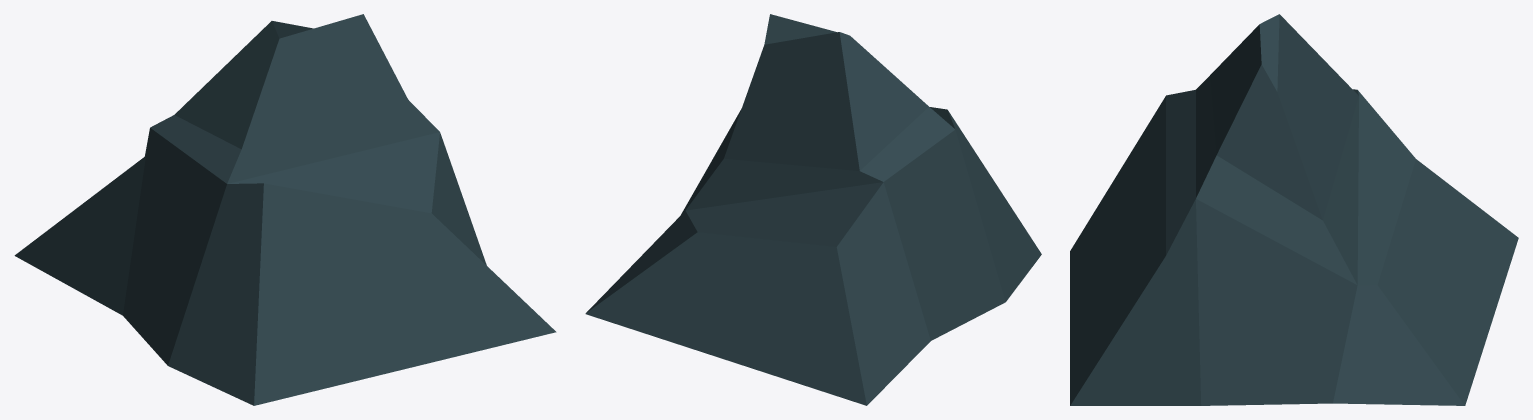
Rendered from rock1.fbx.
3 views of the same model, side by side, from view 1: azimuth 30°, elevation 25°; view 2: azimuth 150°, elevation 25°; view 3: azimuth 270°, elevation 25° (orthographic). The views are drawn at different scales.
Visible parts, largest first — view 1: Cube; view 2: Cube; view 3: Cube.
Part boxes in pixels (bbox=[...]): Cube: bbox=[14, 14, 556, 405]; Cube: bbox=[585, 14, 1041, 405]; Cube: bbox=[1070, 14, 1518, 405].
Bounding box in the file's own units: 392 × 323 × 442.
